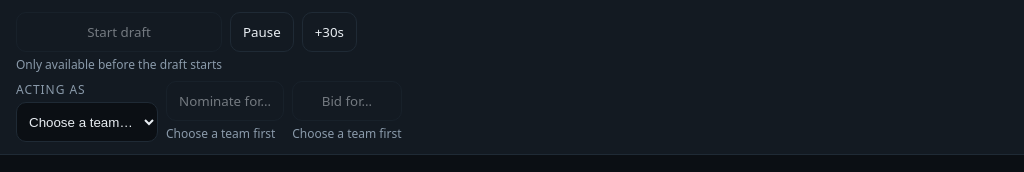
Scenario: CommissionerBar — proxy controls › echoes the chosen team in the proxy action labels once selected
Select "Dave" in the dropdown labelled "Acting as". click: x=87, y=122
box: [16,102,158,142]
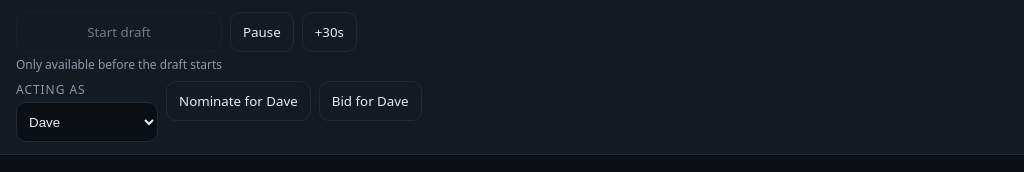
Check: the button "Nominate for Dave" is shown, box [166,81,311,121]
Check: the button "Bid for Dave" is shown, box [319,81,422,121]
